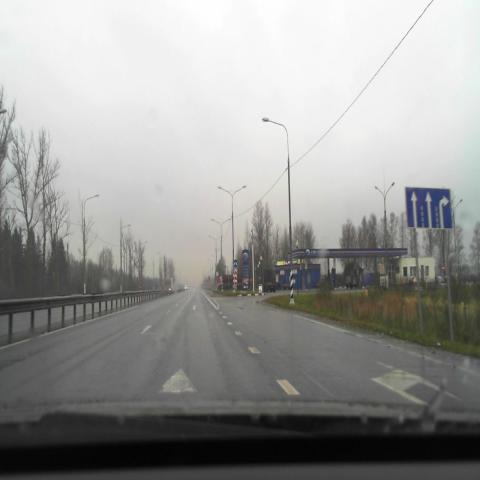5_15_1: (406, 189, 452, 228)
